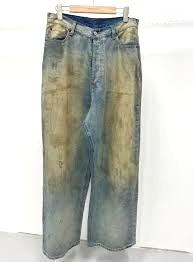earth: (107, 73, 132, 176), (48, 77, 70, 183)
